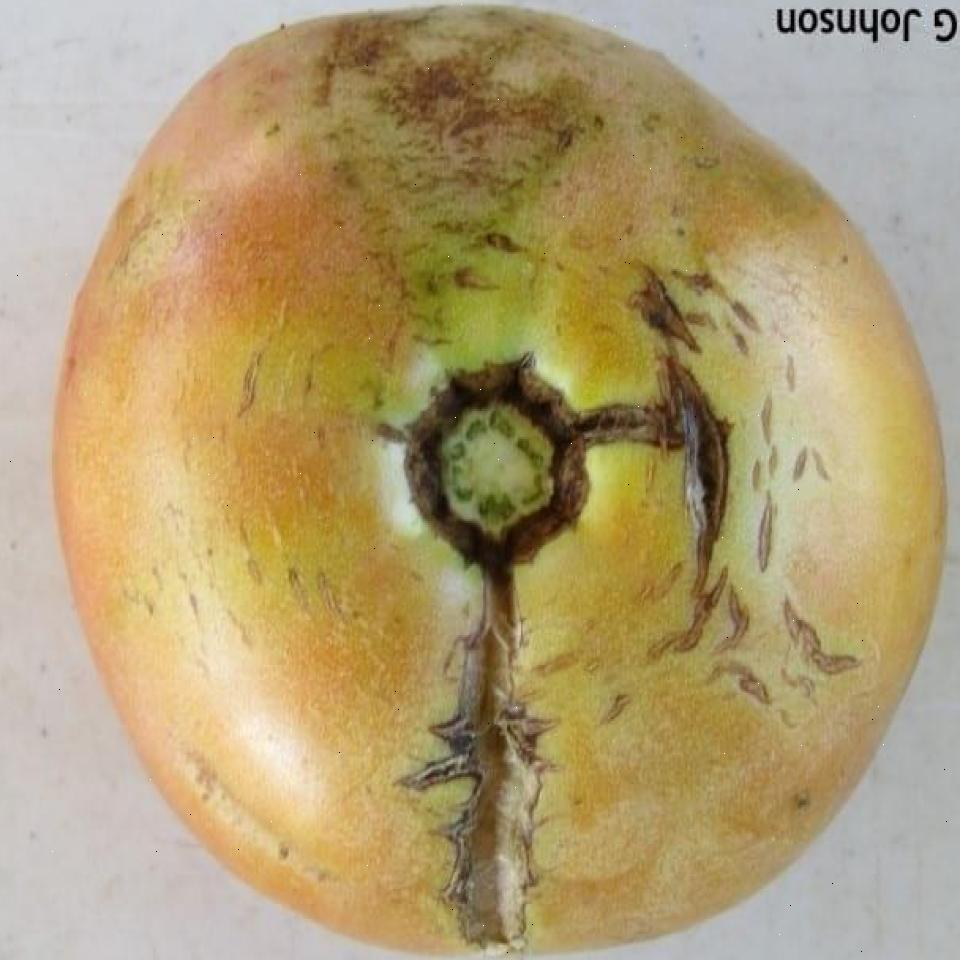Blossom_end_rot: (362, 308, 646, 576)
Cracking: (91, 290, 352, 772), (613, 259, 839, 728), (306, 34, 614, 270)
